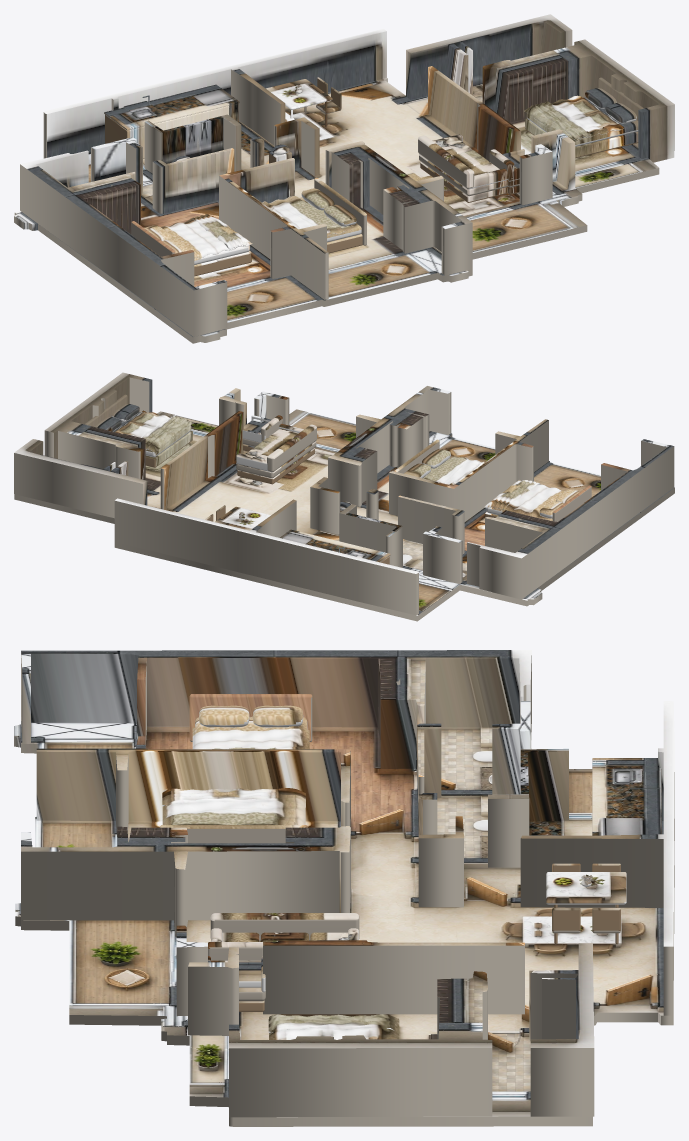
File: p6-02-u08-1201-image-model.glb
The picture shows the model from 3 angles, top to bottom: view 1: azimuth 30°, elevation 25°; view 2: azimuth 150°, elevation 25°; view 3: azimuth 270°, elevation 25°; orthographic projection. The views are drawn at different scales.
Parts seen in each view (by area): view 1: Partition walls, Apartment floor, Stone worktop, Draped bed linen.004, Draped bed linen, Kitchen cabinets, Sofa back, Draped bed linen.002, Marble dining top, Walnut upholstered base.002, Draped bed linen.005, Upholstered headboard.001 (+6 smaller); view 2: Partition walls, Apartment floor, Draped bed linen, Draped bed linen.004, Stone worktop, Sofa back, Draped bed linen.002, Marble dining top, Draped bed linen.001, Upholstered headboard, Draped bed linen.005, Upholstered sofa frame (+4 smaller); view 3: Partition walls, Apartment floor, Stone worktop, Sofa back, Draped bed linen.002, Marble dining top, Draped bed linen, Upholstered headboard, Upholstered headboard.001, Draped bed linen.003, Draped bed linen.005, Draped bed linen.004 (+3 smaller).
Part boxes in pixels (bbox=[...]): Partition walls: bbox=[20, 14, 674, 336]; Apartment floor: bbox=[14, 78, 674, 343]; Stone worktop: bbox=[104, 84, 239, 130]; Draped bed linen.004: bbox=[524, 95, 624, 141]; Draped bed linen: bbox=[161, 215, 252, 258]; Kitchen cabinets: bbox=[105, 103, 238, 158]; Sofa back: bbox=[418, 135, 474, 188]; Draped bed linen.002: bbox=[265, 196, 344, 236]; Marble dining top: bbox=[266, 79, 332, 109]; Walnut upholstered base.002: bbox=[525, 118, 638, 158]; Draped bed linen.005: bbox=[530, 101, 591, 140]; Upholstered headboard.001: bbox=[314, 177, 366, 245]; Partition walls: bbox=[14, 372, 674, 615]; Apartment floor: bbox=[14, 409, 674, 621]; Draped bed linen: bbox=[484, 480, 564, 517]; Draped bed linen.004: bbox=[115, 410, 193, 452]; Stone worktop: bbox=[280, 529, 390, 562]; Sofa back: bbox=[267, 424, 316, 471]; Draped bed linen.002: bbox=[424, 455, 480, 484]; Marble dining top: bbox=[215, 506, 270, 530]; Draped bed linen.001: bbox=[489, 480, 540, 510]; Upholstered headboard: bbox=[552, 485, 591, 521]; Draped bed linen.005: bbox=[142, 416, 188, 450]; Upholstered sofa frame: bbox=[236, 441, 316, 478]; Partition walls: bbox=[21, 650, 674, 1117]; Apartment floor: bbox=[14, 721, 673, 1126]; Stone worktop: bbox=[592, 758, 661, 835]; Sofa back: bbox=[210, 913, 359, 940]; Draped bed linen.002: bbox=[162, 788, 305, 824]; Marble dining top: bbox=[546, 872, 626, 904]; Draped bed linen: bbox=[192, 726, 309, 749]; Upholstered headboard: bbox=[189, 694, 312, 741]; Upholstered headboard.001: bbox=[160, 825, 307, 843]; Draped bed linen.003: bbox=[162, 788, 305, 807]; Draped bed linen.005: bbox=[268, 1014, 399, 1033]; Draped bed linen.004: bbox=[269, 1014, 398, 1039].
Size of the model in its own units: 14.41 by 1.3 by 9.92.
Materials: 14 (3 with a texture image).
